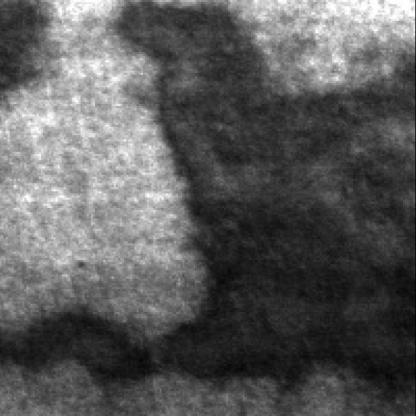patches: (150, 0, 416, 331), (148, 297, 416, 397), (9, 306, 164, 389), (4, 0, 65, 90)
